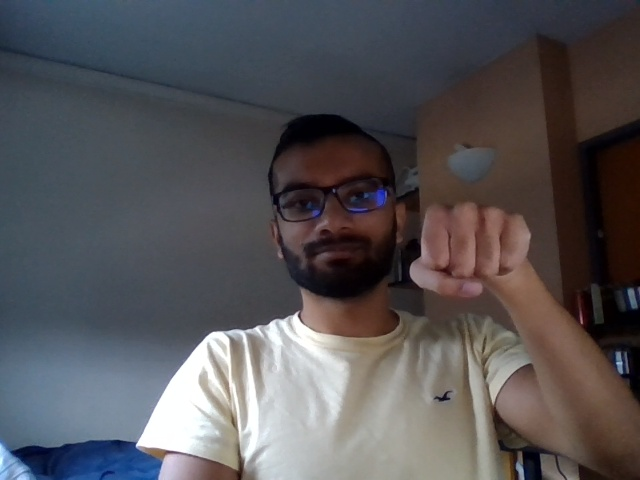Yes: (408, 197, 544, 300)
